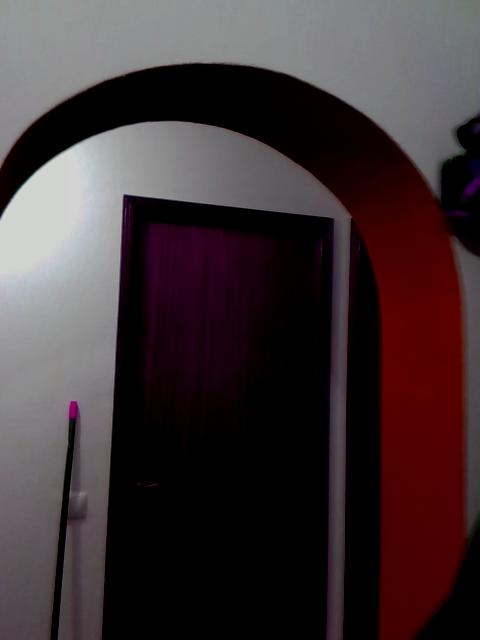closed_door: (101, 195, 334, 638)
